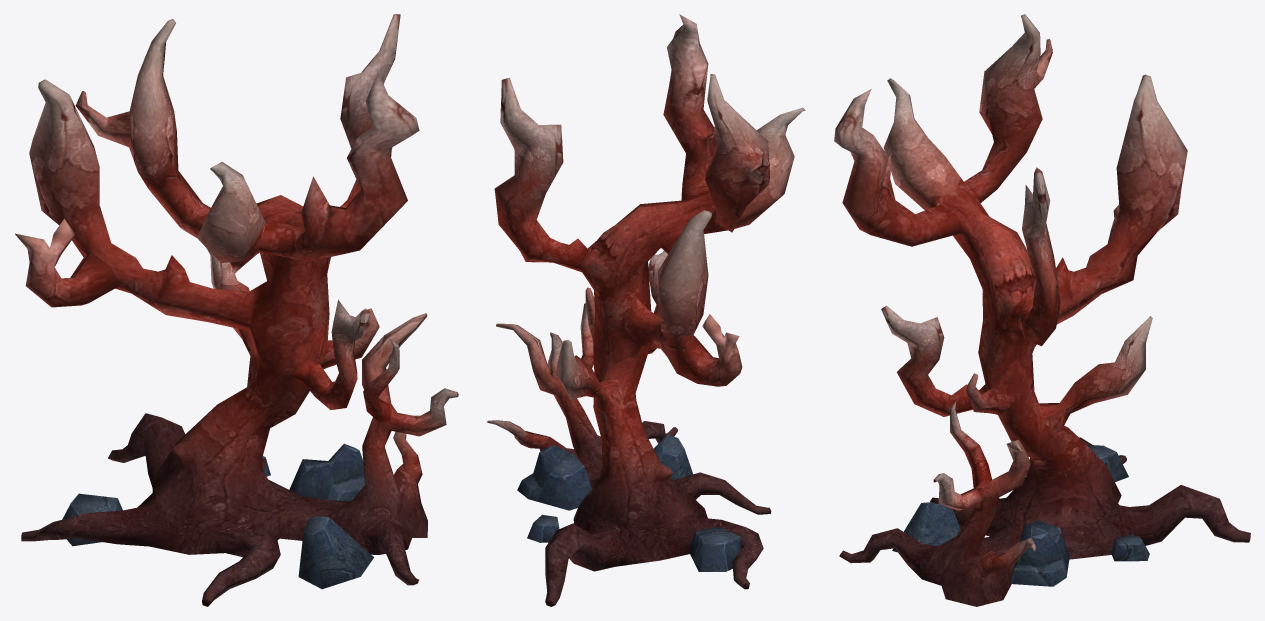
The model's file is VO_N_FireCoral01.FBX.
The picture shows the model from 3 angles, left to right: view 1: azimuth 30°, elevation 25°; view 2: azimuth 150°, elevation 25°; view 3: azimuth 270°, elevation 25°; orthographic projection. The views are drawn at different scales.
Visible parts, largest first — view 1: VO_N_FireCoral01; view 2: VO_N_FireCoral01; view 3: VO_N_FireCoral01.
Part boxes in pixels (x1,y1,x2,y2): VO_N_FireCoral01: (15, 14, 458, 606); VO_N_FireCoral01: (487, 14, 805, 606); VO_N_FireCoral01: (834, 14, 1250, 606).
Bounding box in the file's own units: 220 × 324 × 246.
